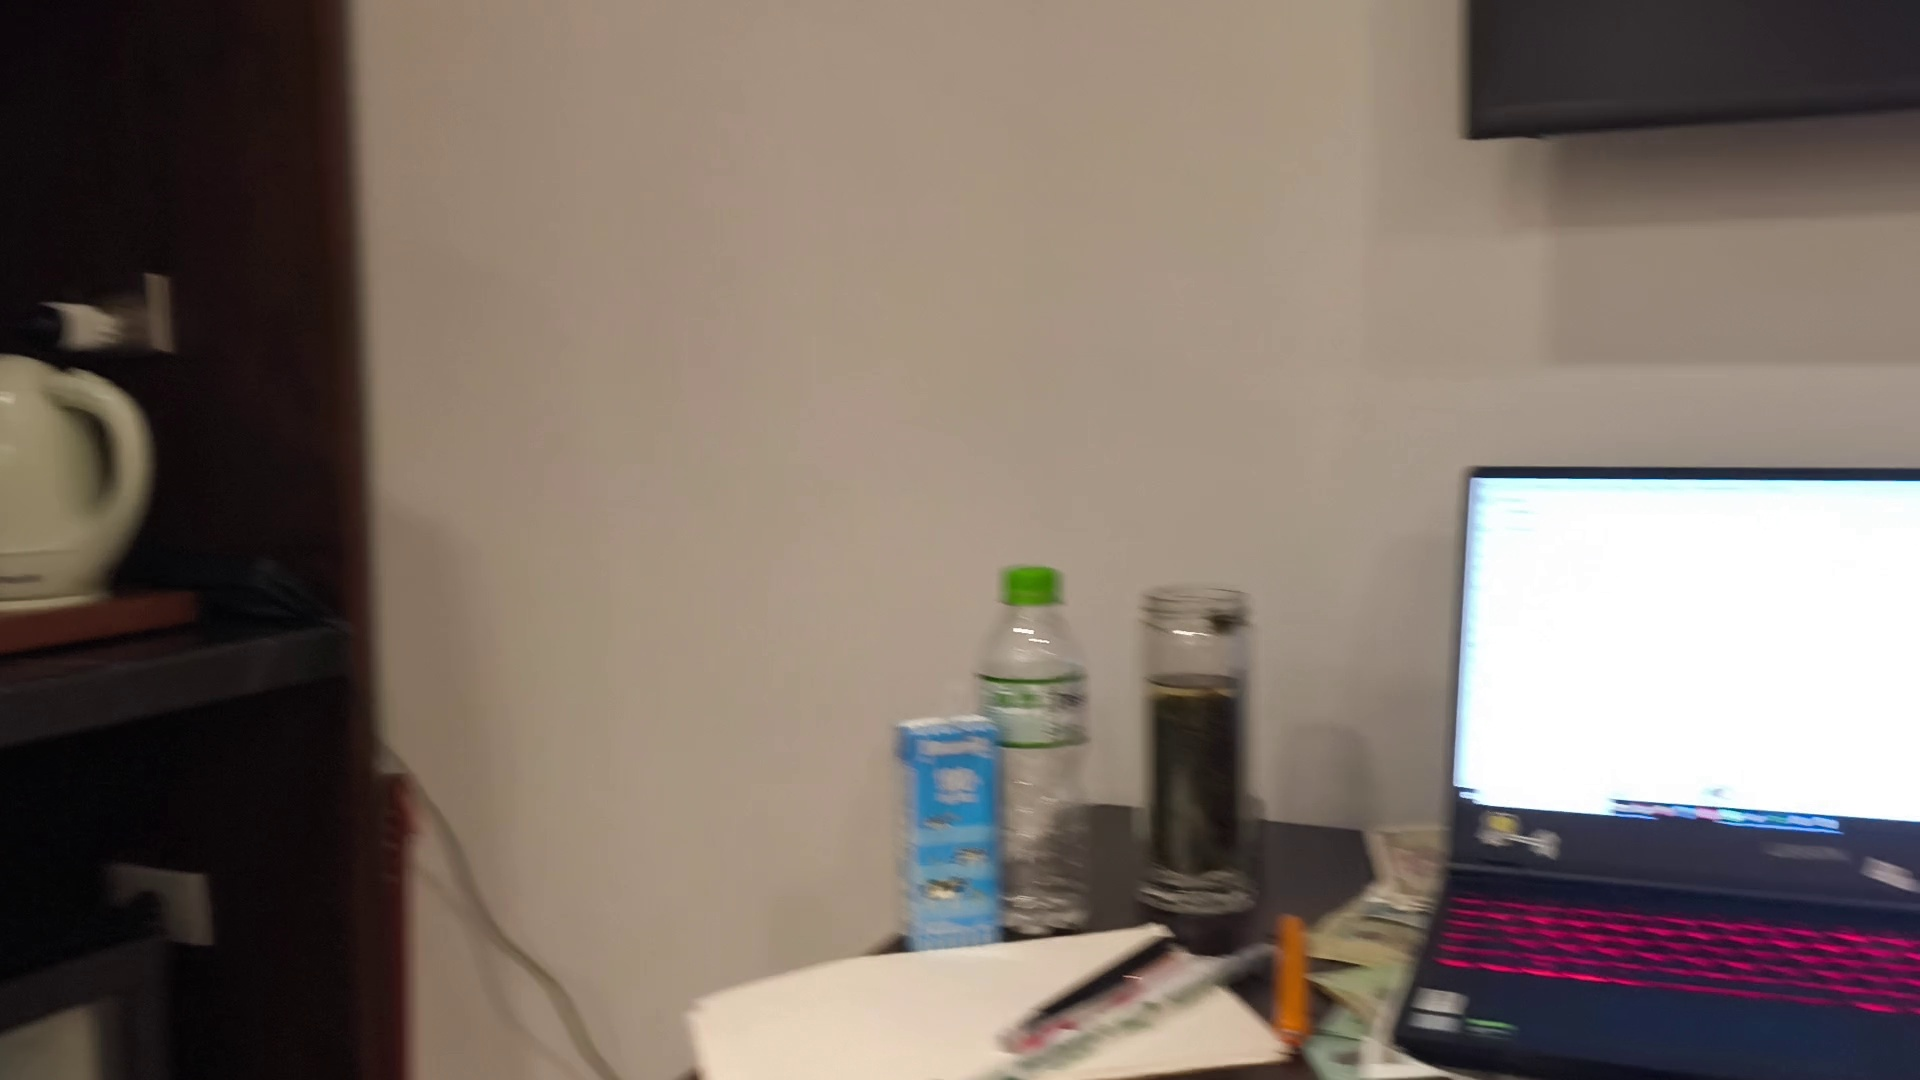bolibei: (1142, 578, 1273, 924)
bottle: (992, 576, 1109, 951)
cup: (0, 388, 170, 604)
milk: (903, 727, 1011, 956)
pen: (963, 907, 1215, 1073)
